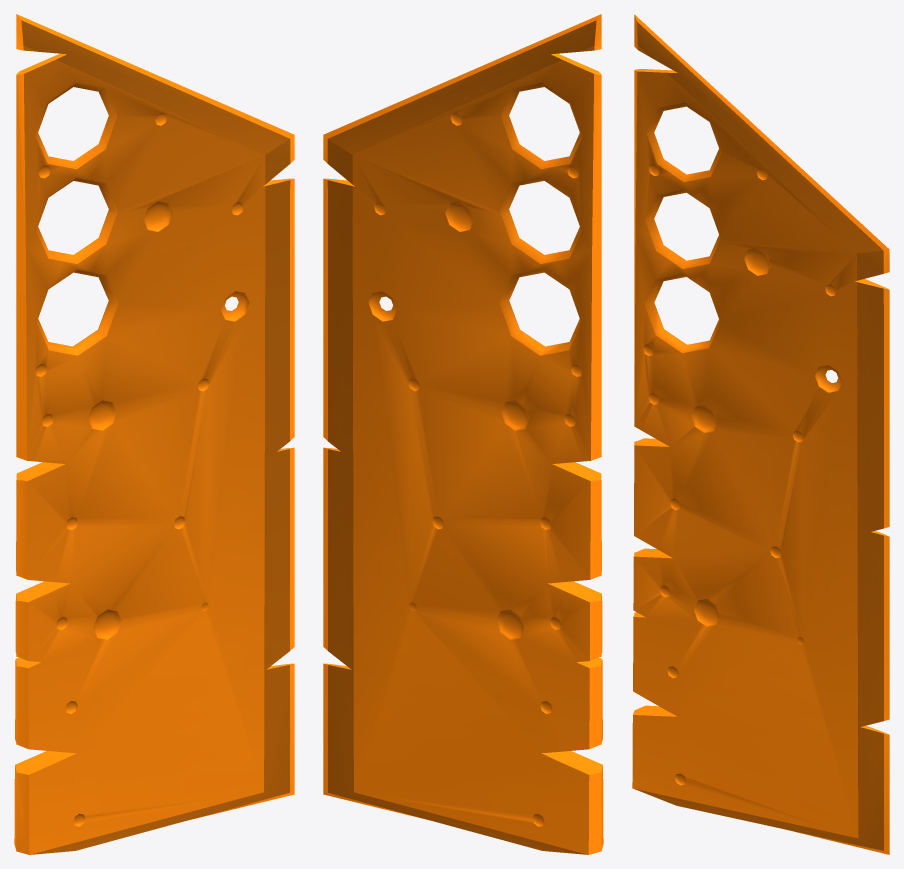
Rendered from bronze_blade_bubbles_040.glb.
3 renders of one model, left to right at view 1: azimuth 30°, elevation 25°; view 2: azimuth 150°, elevation 25°; view 3: azimuth 330°, elevation 25°, orthographic. The views are drawn at different scales.
Visible parts, largest first — view 1: bronze_blade_bubbles.040; view 2: bronze_blade_bubbles.040; view 3: bronze_blade_bubbles.040.
Boxes of the visible parts, <box> form: bronze_blade_bubbles.040: <box>14,14,294,854</box>; bronze_blade_bubbles.040: <box>323,14,603,854</box>; bronze_blade_bubbles.040: <box>632,14,889,854</box>.
Bounding box in the file's own units: 4.06 × 11.85 × 0.374.
Materials: 1 (1 with a texture image).
